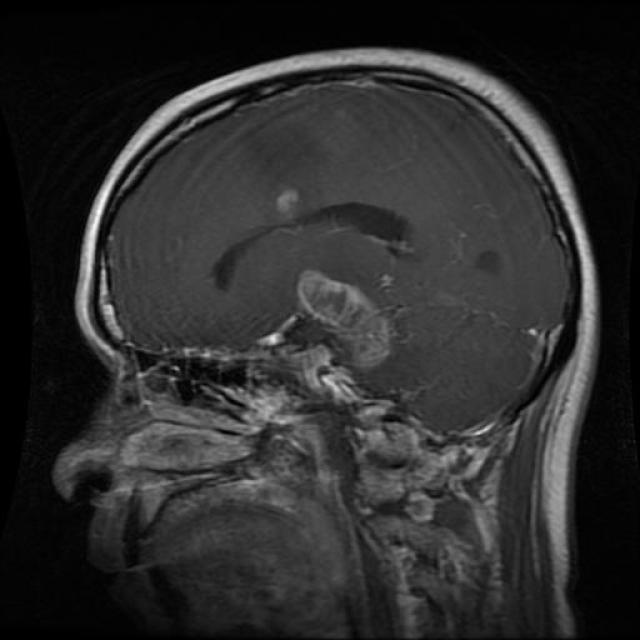brain_tumor: (216, 202, 408, 284), (296, 271, 390, 367), (276, 188, 300, 221)
